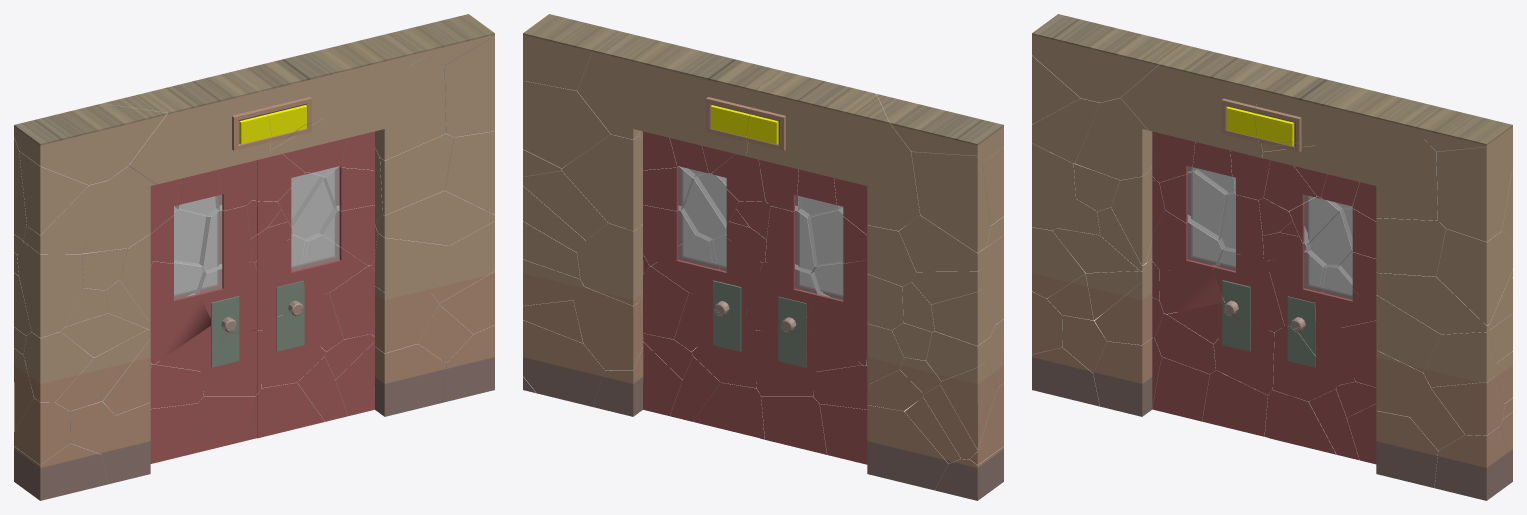
The model's file is Wall_Door01_frac.fbx.
3 views of the same model, side by side, from view 1: azimuth 30°, elevation 25°; view 2: azimuth 150°, elevation 25°; view 3: azimuth 330°, elevation 25° (orthographic).
Parts seen in each view (by area): view 1: Wall_cell.061, Wall_cell.060, Wall_cell.059, Wall_cell.057, Wall_cell.045, Wall_cell.010, Wall_cell.005, Wall_cell.008, Wall_cell.056, Wall_cell.011, Wall_cell.050, Wall_cell.003 (+62 smaller); view 2: Wall_cell.060, Wall_cell.061, Wall_cell.039, Wall_cell.019, Wall_cell.020, Wall_cell.057, Wall_cell.012, Wall_cell.028, Wall_cell.023, Wall_cell.016, Wall_cell.013, Door02_cell.022 (+61 smaller); view 3: Wall_cell.061, Wall_cell.060, Wall_cell.059, Wall_cell.057, Wall_cell.010, Wall_cell.007, Wall_cell.056, Wall_cell.006, Wall_cell.008, Wall_cell.051, Wall_cell.011, Wall_cell.005 (+61 smaller).
Part boxes in pixels (x1,y1,x2,y2): Wall_cell.061: [102, 71, 270, 184]; Wall_cell.060: [236, 31, 426, 150]; Wall_cell.059: [270, 55, 445, 160]; Wall_cell.057: [14, 103, 167, 185]; Wall_cell.045: [17, 242, 83, 337]; Wall_cell.010: [444, 36, 494, 137]; Wall_cell.005: [374, 344, 446, 416]; Wall_cell.008: [375, 190, 494, 245]; Wall_cell.056: [83, 166, 155, 253]; Wall_cell.011: [380, 133, 453, 215]; Wall_cell.050: [14, 443, 107, 500]; Wall_cell.003: [375, 233, 449, 292]; Wall_cell.060: [577, 31, 781, 156]; Wall_cell.061: [746, 71, 920, 230]; Wall_cell.039: [911, 152, 990, 252]; Wall_cell.019: [562, 134, 642, 231]; Wall_cell.020: [523, 81, 610, 168]; Wall_cell.057: [877, 94, 1003, 162]; Wall_cell.012: [523, 320, 604, 406]; Wall_cell.028: [867, 401, 948, 490]; Wall_cell.023: [523, 14, 618, 90]; Wall_cell.016: [577, 223, 643, 305]; Wall_cell.013: [573, 286, 642, 370]; Door02_cell.022: [761, 392, 827, 454]; Wall_cell.061: [1120, 35, 1279, 158]; Wall_cell.060: [1254, 68, 1442, 151]; Wall_cell.059: [1262, 133, 1437, 220]; Wall_cell.057: [1032, 14, 1158, 102]; Wall_cell.010: [1436, 147, 1511, 241]; Wall_cell.007: [1436, 228, 1512, 325]; Wall_cell.056: [1075, 98, 1152, 179]; Wall_cell.006: [1434, 426, 1512, 500]; Wall_cell.008: [1376, 272, 1489, 334]; Wall_cell.051: [1093, 338, 1153, 416]; Wall_cell.011: [1376, 218, 1445, 276]; Wall_cell.005: [1376, 411, 1438, 487].
Bounding box in the file's own units: 400 × 300 × 49.73.
